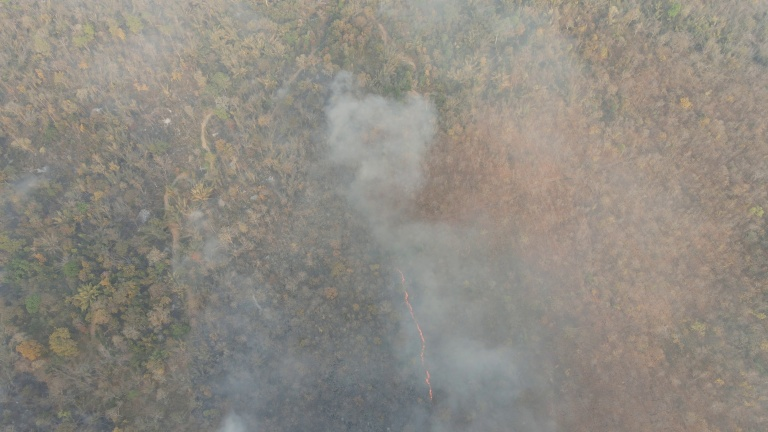fire: (393, 261, 444, 405)
smoke: (408, 228, 530, 432), (330, 80, 430, 213)
